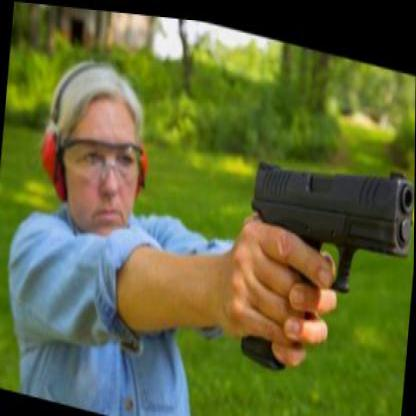pistol: (233, 124, 414, 385)
